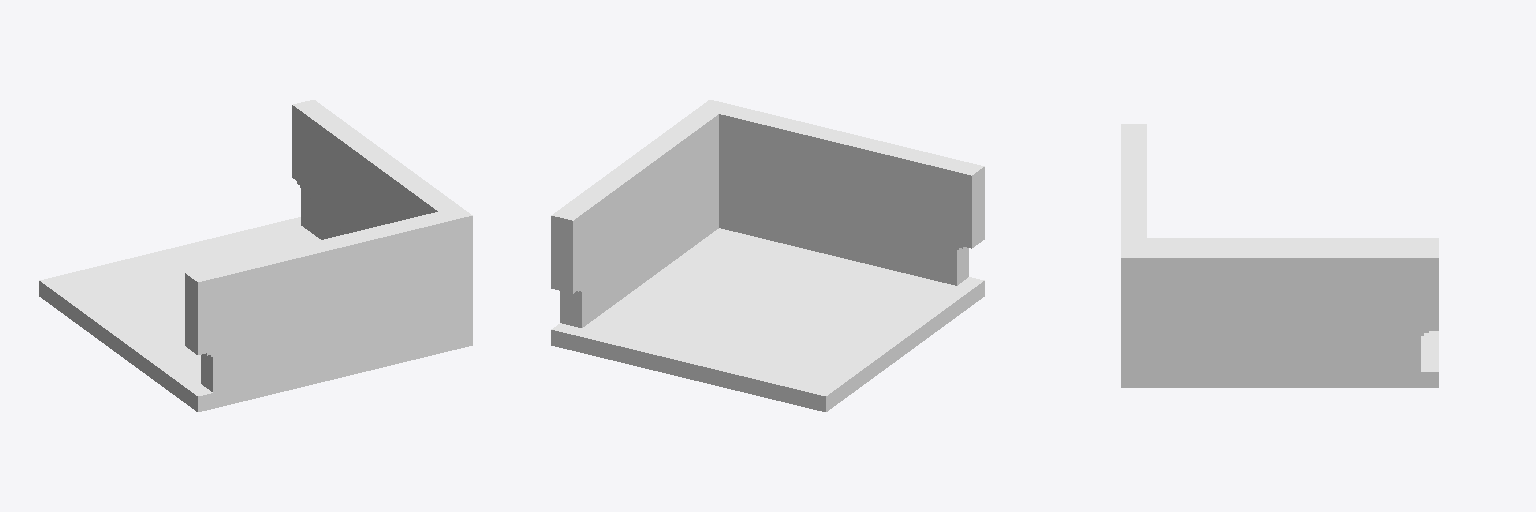
File: PlcehldRoom2-2.obj
3 views of the same model, side by side, from view 1: azimuth 30°, elevation 25°; view 2: azimuth 150°, elevation 25°; view 3: azimuth 270°, elevation 25° (orthographic).
Parts seen in each view (by area): view 1: object 1; view 2: object 1; view 3: object 1.
Boxes of the visible parts, x1,y1,x2,y2 form: object 1: [39, 100, 472, 411]; object 1: [551, 100, 984, 411]; object 1: [1121, 124, 1438, 387].
Bounding box in the file's own units: 12.6 × 5.7 × 12.6.